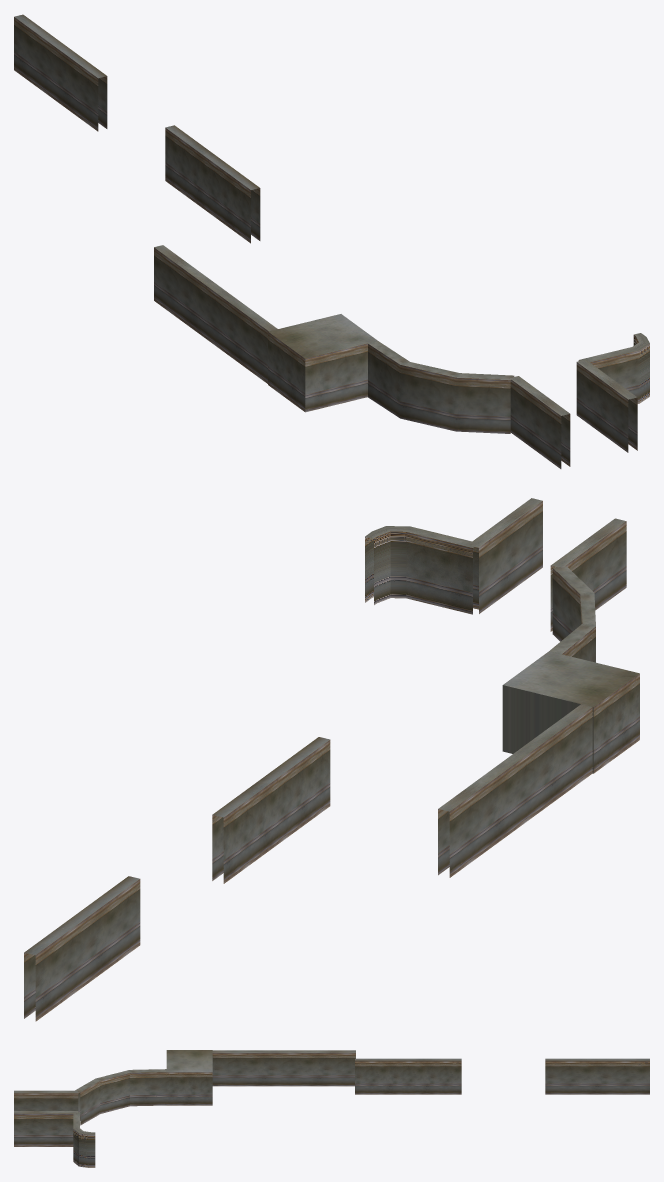
Rendered from dcfx2_qm_01.FBX.
3 views of the same model, one above another, from view 1: azimuth 30°, elevation 25°; view 2: azimuth 150°, elevation 25°; view 3: azimuth 270°, elevation 25° (orthographic). The views are drawn at different scales.
Parts seen in each view (by area): view 1: dcfx2_qm_01; view 2: dcfx2_qm_01; view 3: dcfx2_qm_01.
Boxes of the visible parts, x1,y1,x2,y2 form: dcfx2_qm_01: [14, 14, 649, 468]; dcfx2_qm_01: [24, 498, 639, 1021]; dcfx2_qm_01: [14, 1050, 649, 1167].
Bounding box in the file's own units: 2785 × 839 × 8857.
